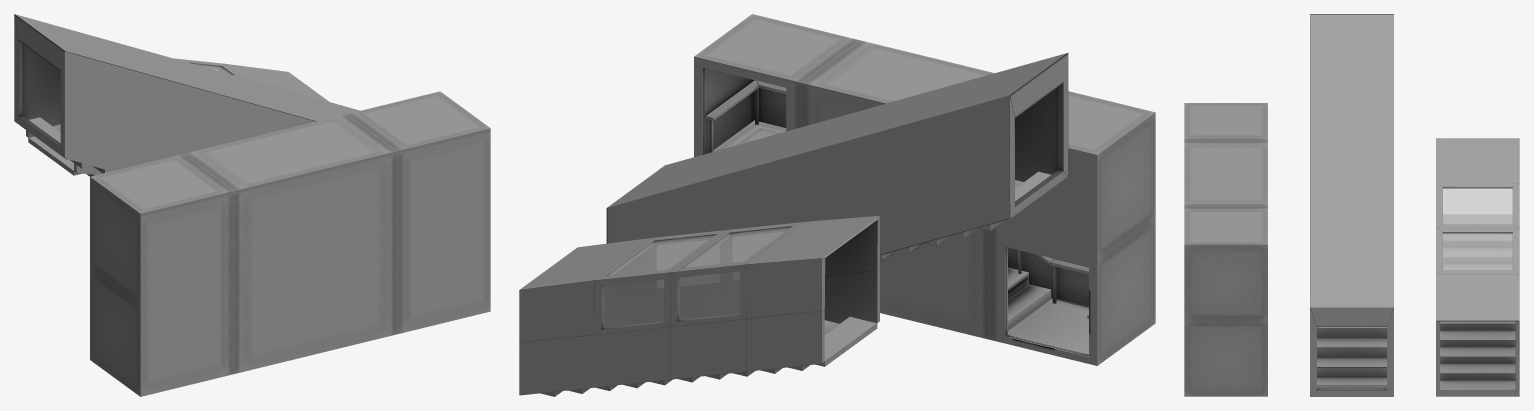
Rendered from stairs.fbx.
3 views of the same model, side by side, from view 1: azimuth 30°, elevation 25°; view 2: azimuth 150°, elevation 25°; view 3: azimuth 270°, elevation 25° (orthographic). The views are drawn at different scales.
Visible parts, largest first — view 1: interior_stairs, Cube_2042, Cube_2058; view 2: interior_stairs, Cube_2042, Cube_2058; view 3: Cube_2042, interior_stairs, Cube_2058.
Part boxes in pixels (left/top/right/bottom): interior_stairs: left=90, top=91, right=490, bottom=396; Cube_2042: left=14, top=14, right=359, bottom=173; Cube_2058: left=26, top=58, right=328, bottom=176; interior_stairs: left=694, top=14, right=1155, bottom=365; Cube_2042: left=606, top=53, right=1068, bottom=260; Cube_2058: left=519, top=215, right=879, bottom=396; Cube_2042: left=1310, top=14, right=1393, bottom=396; interior_stairs: left=1184, top=103, right=1267, bottom=396; Cube_2058: left=1436, top=138, right=1519, bottom=396.
Size of the model in its own units: 8 by 8 by 6.35.
